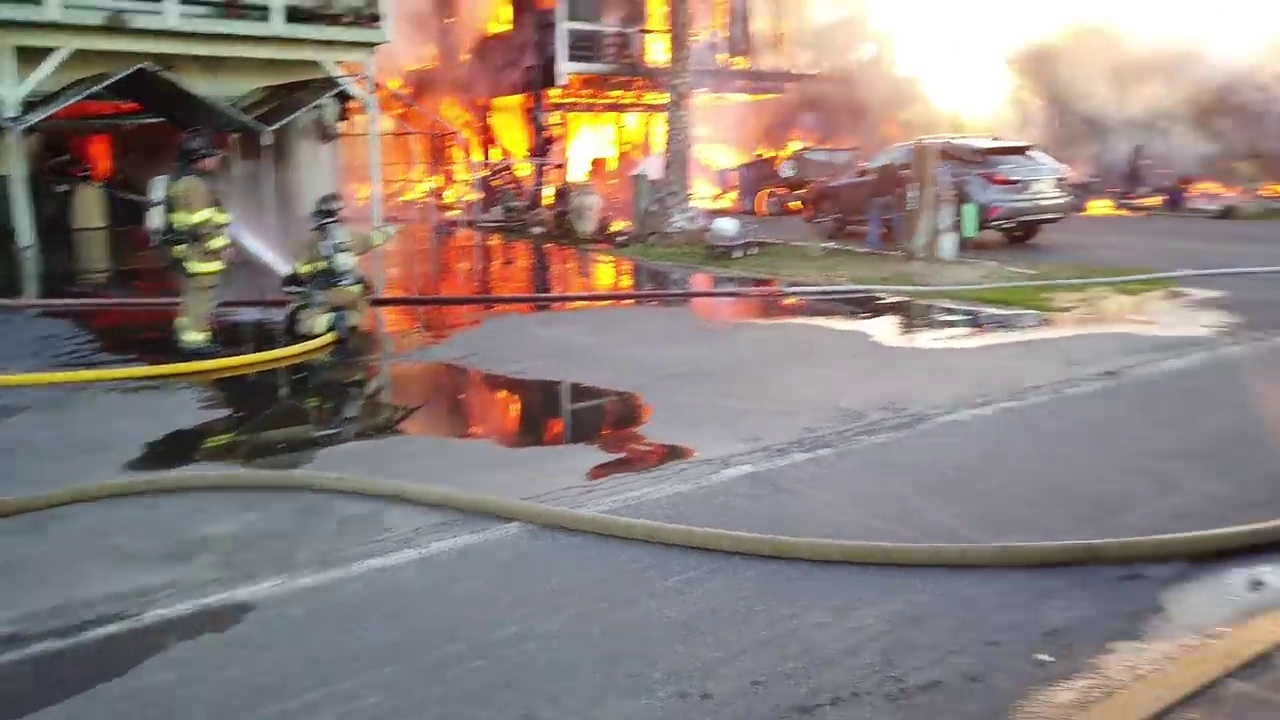fire: (377, 1, 745, 283), (697, 135, 822, 216), (442, 1, 572, 39), (632, 1, 692, 68), (81, 133, 115, 177), (1072, 196, 1140, 213), (1184, 178, 1240, 197)
smoke: (760, 1, 1279, 154), (346, 1, 462, 82)
